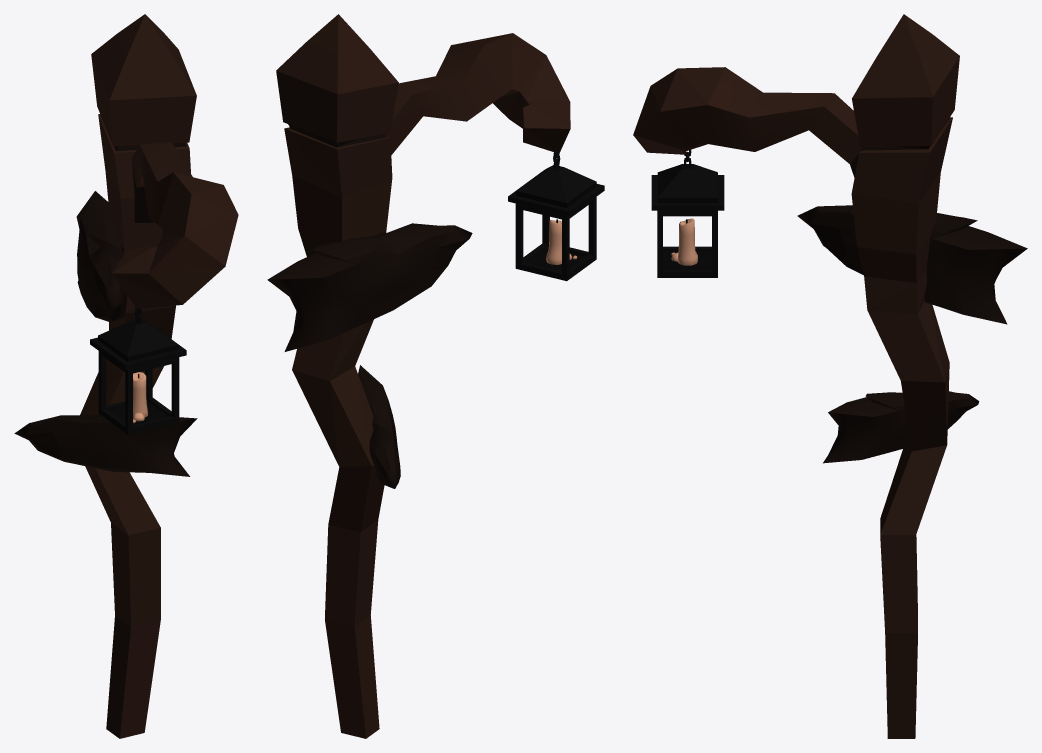
Rendered from StreetLight 1.fbx.
3 views of the same model, side by side, from view 1: azimuth 30°, elevation 25°; view 2: azimuth 150°, elevation 25°; view 3: azimuth 270°, elevation 25° (orthographic). The views are drawn at different scales.
Parts seen in each view (by area): view 1: StreetLight; view 2: StreetLight; view 3: StreetLight.
Part boxes in pixels (x1,y1,x2,y2): StreetLight: (14,14,238,738); StreetLight: (267,14,604,738); StreetLight: (633,14,1027,738).
Size of the model in its own units: 29.58 by 105 by 51.75.
